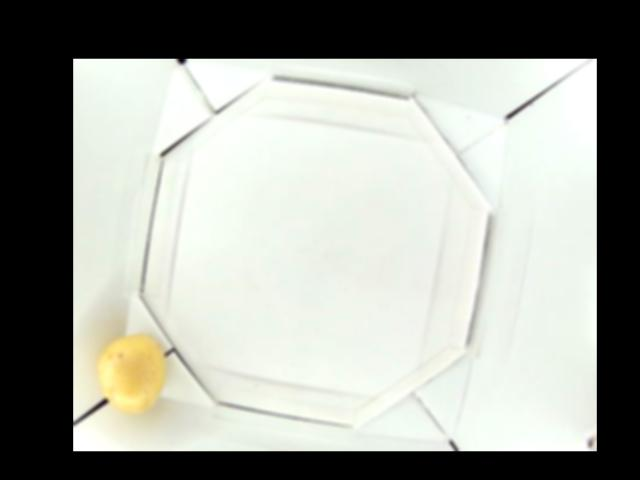Potato: (96, 332, 169, 413)
